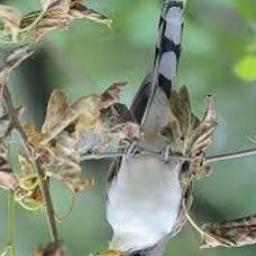Cuckoo: (89, 0, 192, 256)
